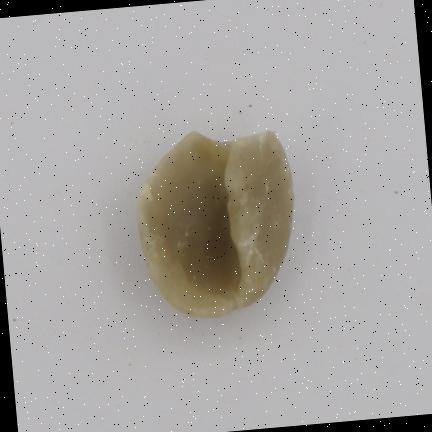shell: (138, 131, 294, 317)
